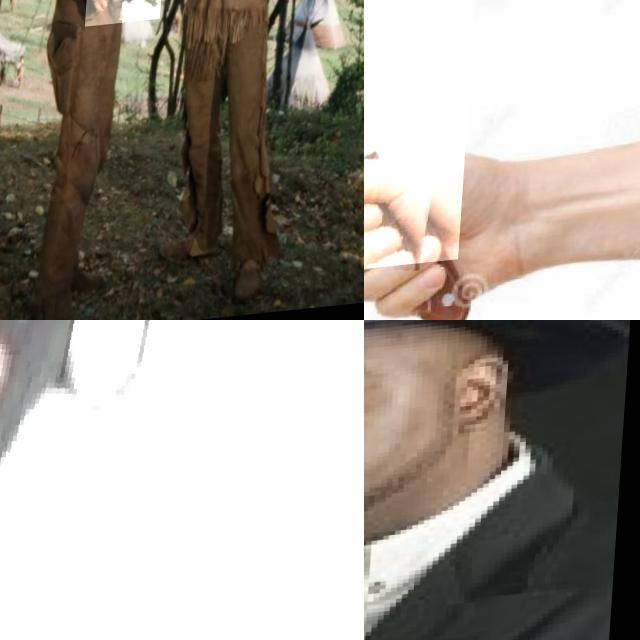-: (364, 0, 519, 290)
gun-knife-thesis - v11 Yolov5 augmented: (0, 320, 364, 640), (364, 489, 497, 640), (89, 0, 167, 32)
